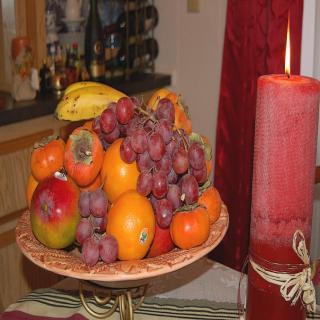Grape: (92, 98, 206, 229), (75, 188, 119, 268)
Orange: (107, 190, 151, 262), (97, 133, 148, 195), (150, 83, 172, 109)
